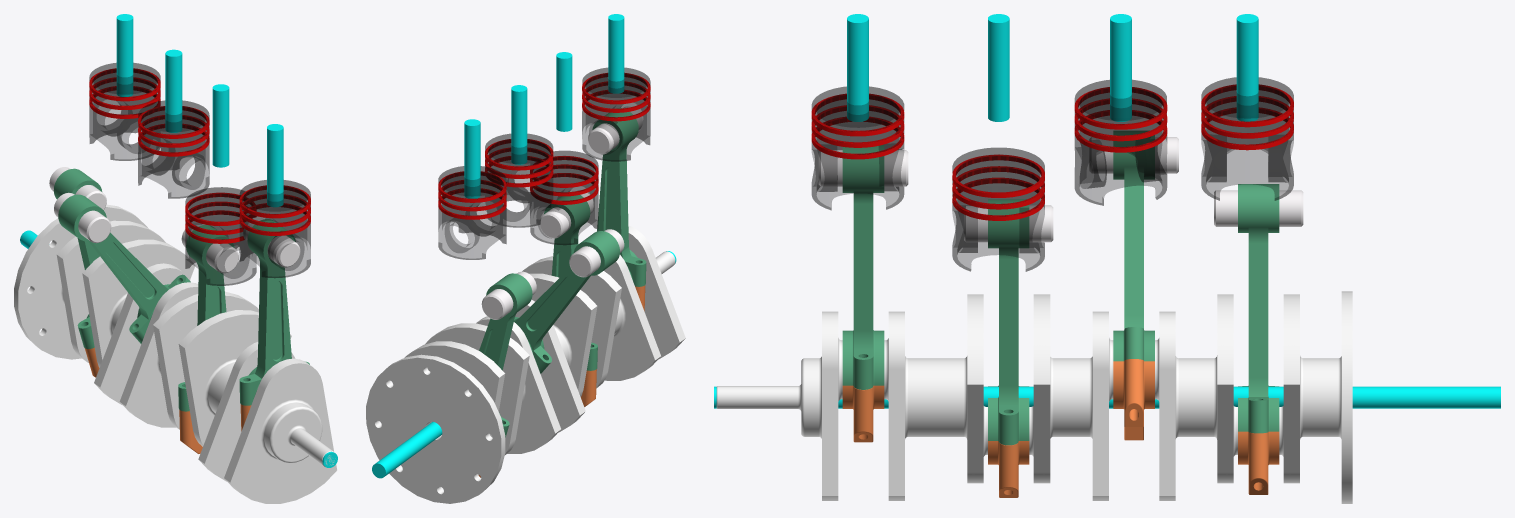
Rendered from mas-MAS.glb.
3 views of the same model, side by side, from view 1: azimuth 30°, elevation 25°; view 2: azimuth 150°, elevation 25°; view 3: azimuth 270°, elevation 25° (orthographic). The views are drawn at different scales.
Visible parts, largest first — view 1: csq, Piston003 (×2), PAXIS, Piston, Piston001, ConnectingRod003, ConnectingRod002, ConnectingRod004, ConnectingRod001, pistonRing011 (×2), pistonRing010 (×2), pistonRing009 (×2) (+12 smaller); view 2: csq, Piston003 (×2), PAXIS, Piston001, Piston, ConnectingRod003, ConnectingRod002, ConnectingRod001, ConnectingRod004, ZAXIS, pistonRing011 (×2), pistonRing010 (×2) (+12 smaller); view 3: csq, Piston003 (×2), PAXIS, Piston, Piston001, ConnectingRod003, ConnectingRod001, ConnectingRod004, ConnectingRod002, ZAXIS, ConnectingRodCap002, pistonRing011 (×2) (+15 smaller).
Boxes of the visible parts, x1,y1,x2,y2 form: csq: (14, 204, 336, 503); Piston003 (×2): (185, 180, 310, 285); PAXIS: (116, 14, 283, 207); Piston: (138, 100, 209, 198); Piston001: (89, 63, 160, 160); ConnectingRod003: (239, 219, 309, 405); ConnectingRod002: (58, 194, 190, 343); ConnectingRod004: (178, 225, 234, 411); ConnectingRod001: (53, 168, 102, 348); pistonRing011 (×2): (185, 185, 310, 225); pistonRing010 (×2): (185, 194, 310, 234); pistonRing009 (×2): (185, 203, 310, 243); csq: (366, 225, 685, 503); Piston003 (×2): (530, 67, 650, 245); PAXIS: (464, 14, 624, 198); Piston001: (438, 166, 506, 259); Piston: (485, 133, 553, 227); ConnectingRod003: (592, 108, 646, 286); ConnectingRod002: (514, 231, 619, 373); ConnectingRod001: (479, 273, 532, 437); ConnectingRod004: (544, 195, 597, 370); ZAXIS: (372, 251, 676, 478); pistonRing011 (×2): (530, 73, 650, 187); pistonRing010 (×2): (530, 81, 650, 196); csq: (716, 291, 1352, 503); Piston003 (×2): (811, 86, 1044, 271); PAXIS: (847, 14, 1258, 121); Piston: (1074, 79, 1167, 205); Piston001: (1201, 77, 1293, 200); ConnectingRod003: (842, 144, 884, 389); ConnectingRod001: (1238, 184, 1279, 433); ConnectingRod004: (988, 199, 1029, 445); ConnectingRod002: (1113, 131, 1154, 361); ZAXIS: (714, 386, 1500, 408); ConnectingRodCap002: (1113, 359, 1154, 440); pistonRing011 (×2): (811, 94, 1044, 197).
Size of the model in its own units: 0.2375 by 0.4808 by 0.721.
